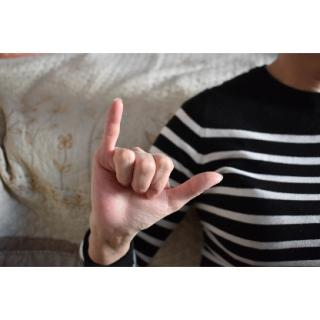YA: (89, 96, 225, 247)
